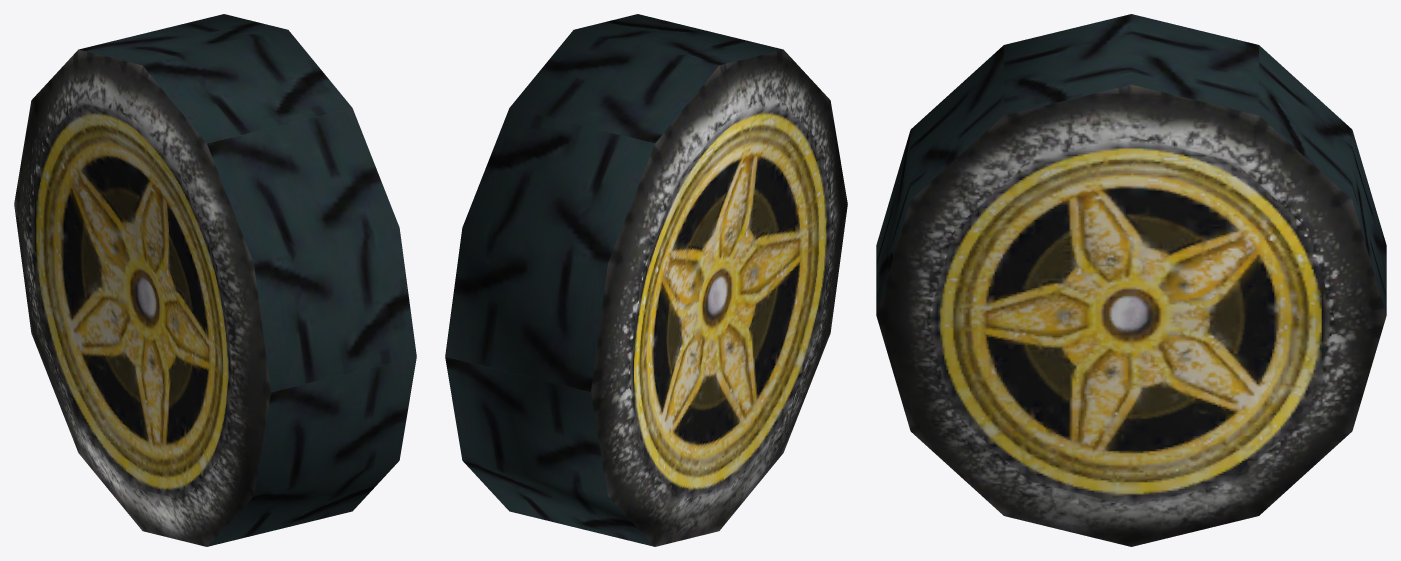
File: lancia_wheel.obj
3 renders of one model, left to right at view 1: azimuth 30°, elevation 25°; view 2: azimuth 150°, elevation 25°; view 3: azimuth 270°, elevation 25°, orthographic.
Parts seen in each view (by area): view 1: 01WhlLOD01.002; view 2: 01WhlLOD01.002; view 3: 01WhlLOD01.002.
Part boxes in pixels (x1,y1,x2,y2): 01WhlLOD01.002: (14, 14, 416, 546); 01WhlLOD01.002: (445, 14, 847, 546); 01WhlLOD01.002: (876, 14, 1386, 546).
Bounding box in the file's own units: 0.7576 × 2 × 2.
1 material, 1 textured.
